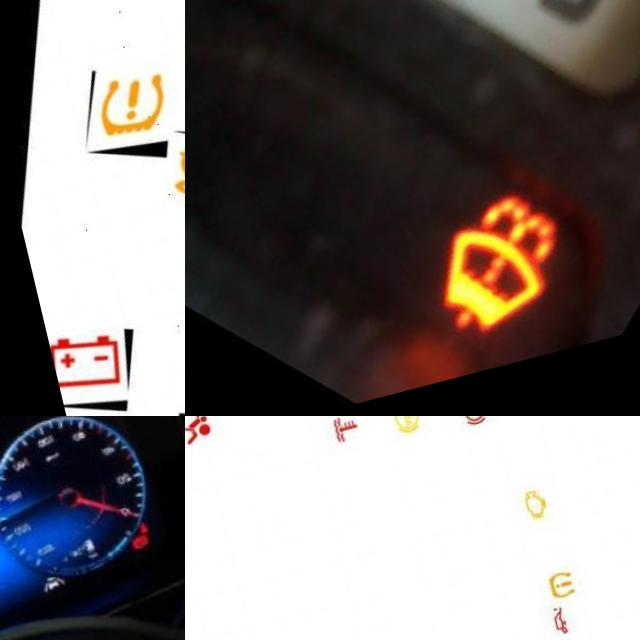Low fuel level: (70, 559, 88, 578)
Washer Fluid: (402, 209, 547, 358)
